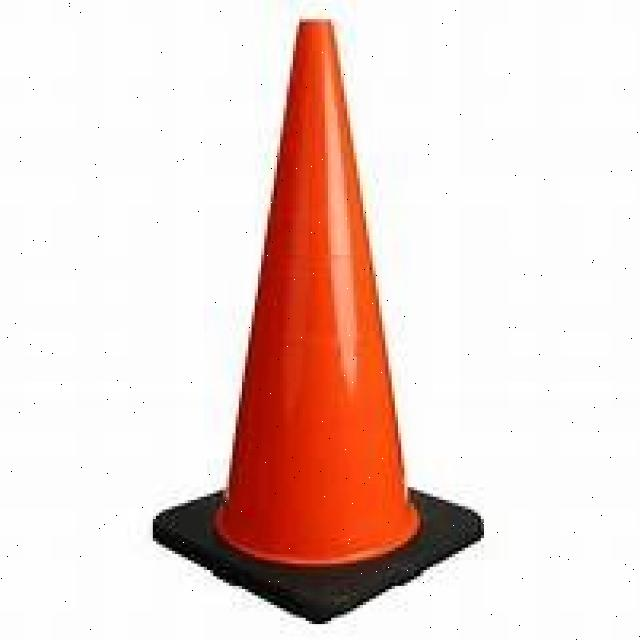traffic cone: (141, 16, 492, 632)
